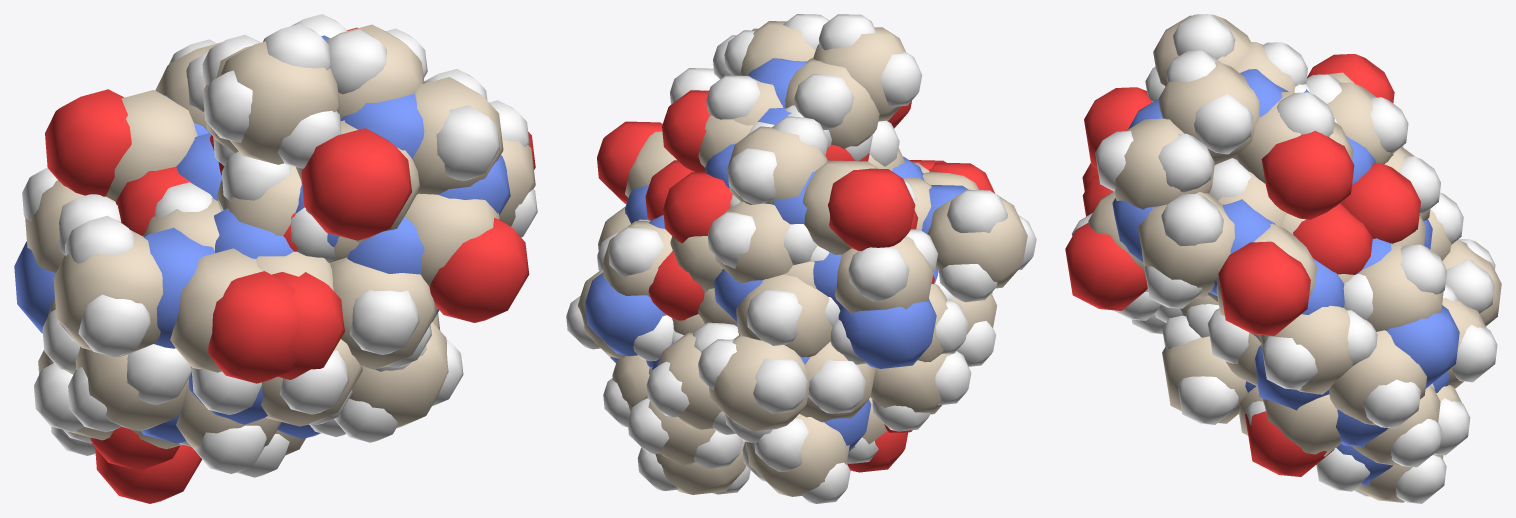
The model's file is Duroplast_Sphere.glb.
3 views of the same model, side by side, from view 1: azimuth 30°, elevation 25°; view 2: azimuth 150°, elevation 25°; view 3: azimuth 270°, elevation 25° (orthographic). The views are drawn at different scales.
Parts seen in each view (by area): view 1: VSph068, VSph129, VSph001, VSph039, VSph019, VSph128, VSph030, VSph125, VSph145, VSph013, VSph057, VSph008 (+54 smaller); view 2: VSph039, VSph063, VSph128, VSph101, VSph079, VSph142, VSph113, VSph088, VSph150, VSph001, VSph090, VSph064 (+72 smaller); view 3: VSph169, VSph010, VSph019, VSph007, VSph057, VSph113, VSph004, VSph080, VSph135, VSph078, VSph060, VSph079 (+57 smaller).
Boxes of the visible parts, x1,y1,x2,y2 form: VSph068: [301, 128, 411, 240]; VSph129: [207, 271, 300, 383]; VSph001: [219, 41, 339, 164]; VSph039: [45, 89, 131, 196]; VSph019: [429, 217, 529, 322]; VSph128: [53, 230, 162, 356]; VSph030: [106, 90, 197, 201]; VSph125: [170, 248, 262, 372]; VSph145: [349, 322, 448, 428]; VSph013: [332, 259, 436, 369]; VSph057: [413, 77, 503, 194]; VSph008: [404, 193, 499, 286]; VSph039: [828, 168, 915, 251]; VSph063: [838, 298, 936, 368]; VSph128: [927, 195, 1027, 288]; VSph101: [709, 335, 808, 431]; VSph079: [585, 272, 666, 356]; VSph142: [747, 414, 849, 496]; VSph113: [663, 172, 732, 243]; VSph088: [715, 202, 792, 283]; VSph150: [727, 126, 827, 204]; VSph001: [813, 27, 905, 121]; VSph090: [736, 274, 832, 357]; VSph064: [835, 236, 933, 314]; VSph169: [1218, 241, 1310, 335]; VSph010: [1261, 130, 1354, 219]; VSph019: [1065, 223, 1147, 310]; VSph007: [1138, 192, 1234, 297]; VSph057: [1114, 118, 1214, 209]; VSph113: [1340, 163, 1420, 243]; VSph004: [1158, 62, 1259, 164]; VSph080: [1329, 330, 1426, 425]; VSph135: [1260, 305, 1353, 394]; VSph078: [1359, 244, 1443, 331]; VSph060: [1293, 203, 1372, 274]; VSph079: [1387, 305, 1459, 388].
Bounding box in the file's own units: 0.7529 × 0.7804 × 0.6824.
